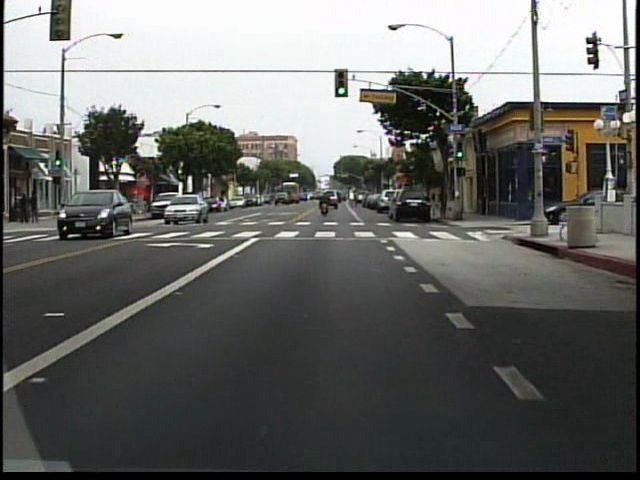person: (19, 193, 32, 226), (31, 190, 43, 224), (317, 188, 330, 217)
